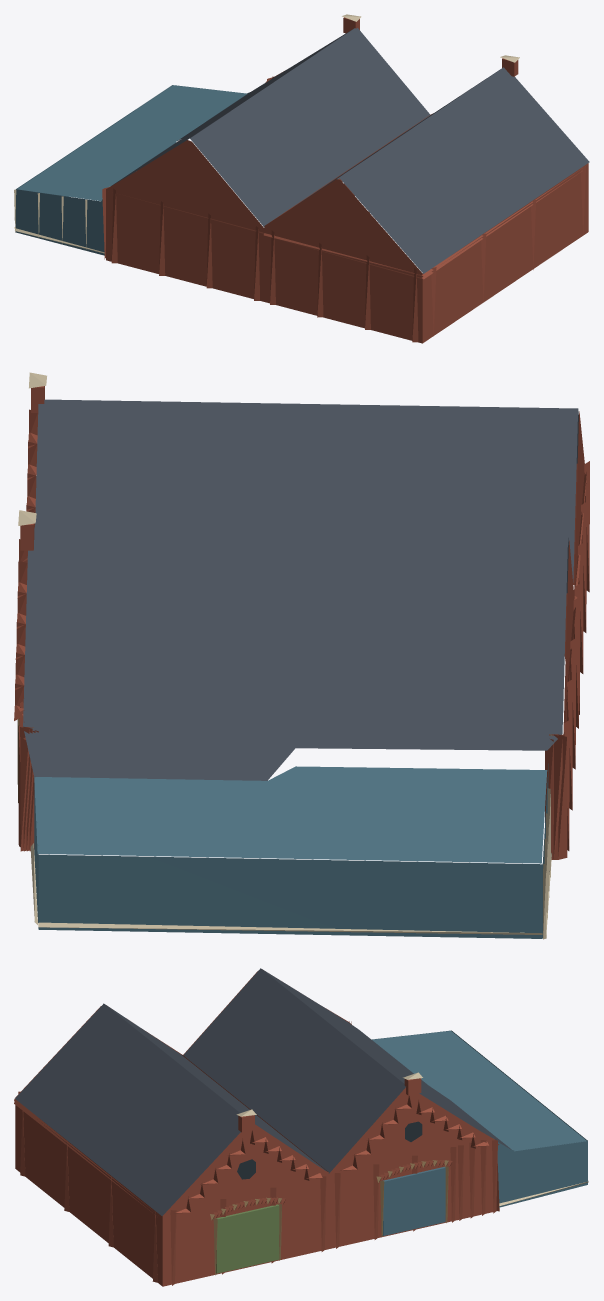
The model's file is kinderkookkafe.lod1.glb.
3 renders of one model, top to bottom at view 1: azimuth 30°, elevation 25°; view 2: azimuth 150°, elevation 25°; view 3: azimuth 270°, elevation 25°, orthographic. The views are drawn at different scales.
Visible parts, largest first — view 1: kinderkookkafe; view 2: kinderkookkafe; view 3: kinderkookkafe.
Boxes of the visible parts, box(x1,y1,x2,y2) form: kinderkookkafe: box(14, 14, 589, 343); kinderkookkafe: box(14, 372, 589, 939); kinderkookkafe: box(14, 968, 588, 1286).
Bounding box in the file's own units: 23.27 × 7.88 × 26.49.
